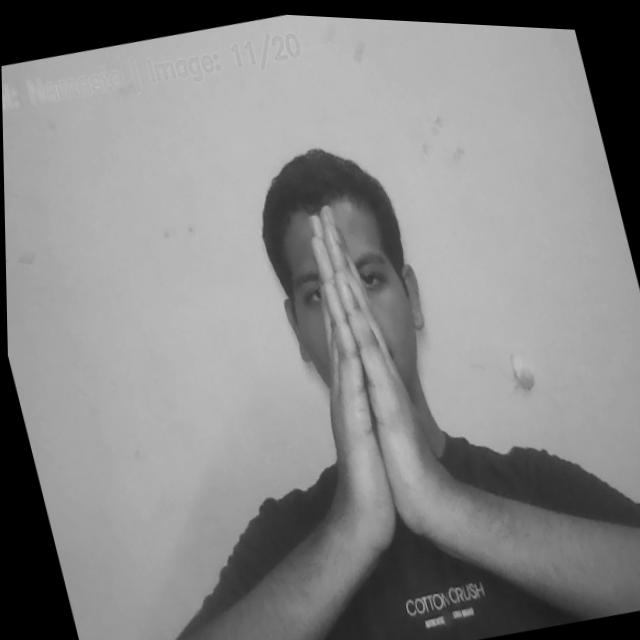Namaste: (284, 196, 451, 569)
